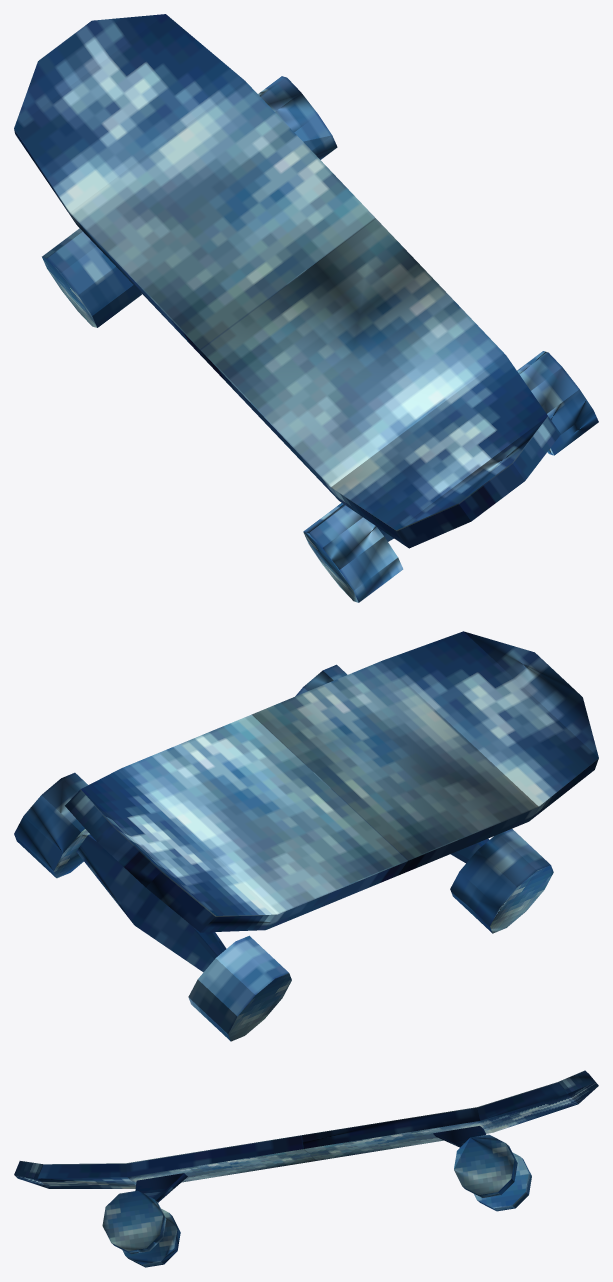
Rendered from MemCard_icon.ico.obj.
3 renders of one model, top to bottom at view 1: azimuth 30°, elevation 25°; view 2: azimuth 150°, elevation 25°; view 3: azimuth 270°, elevation 25°, orthographic. The views are drawn at different scales.
Size of the model in its own units: 1.72 by 2.08 by 4.91.
1 material, 1 textured.
